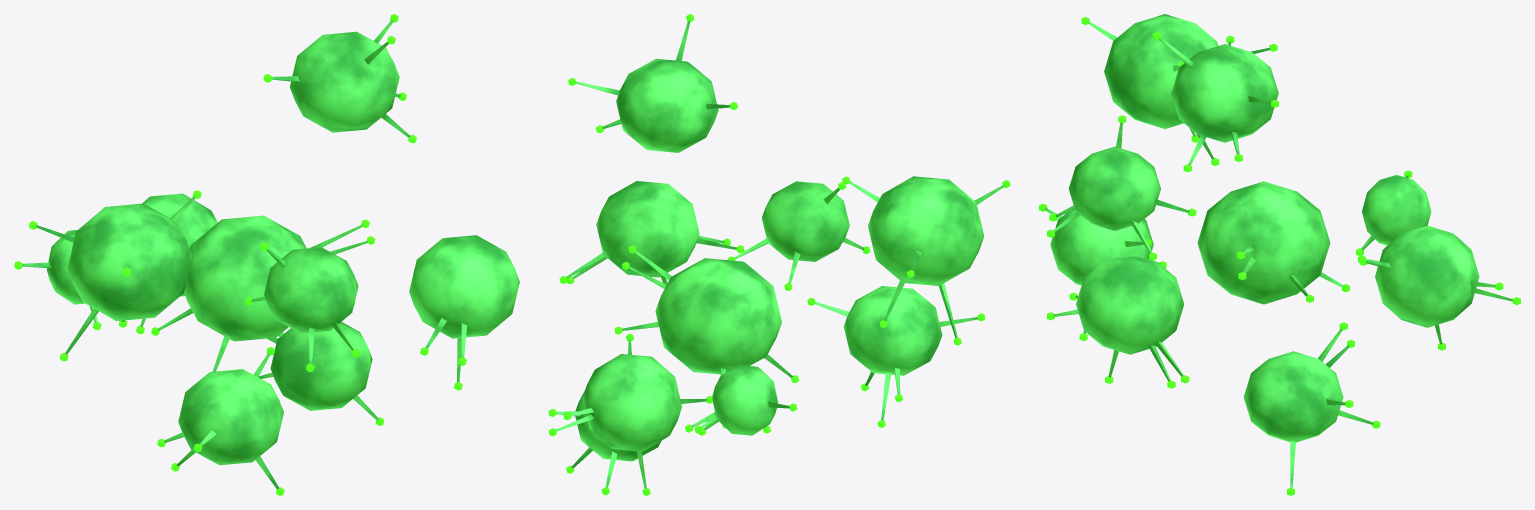
The model's file is esporas_flotantes.fbx.
The picture shows the model from 3 angles, left to right: view 1: azimuth 30°, elevation 25°; view 2: azimuth 150°, elevation 25°; view 3: azimuth 270°, elevation 25°; orthographic projection. The views are drawn at different scales.
Parts seen in each view (by area): view 1: velos_cristal, nucleos_neon; view 2: velos_cristal, nucleos_neon; view 3: velos_cristal, nucleos_neon.
Part boxes in pixels (<box>): velos_cristal: <box>22,20,519,489</box>; nucleos_neon: <box>14,14,466,495</box>; velos_cristal: <box>556,21,1003,488</box>; nucleos_neon: <box>548,14,1010,495</box>; velos_cristal: <box>1044,14,1512,487</box>; nucleos_neon: <box>1039,17,1520,495</box>.
Size of the model in its own units: 3 by 3 by 3.
Materials: 1 (1 with a texture image).
